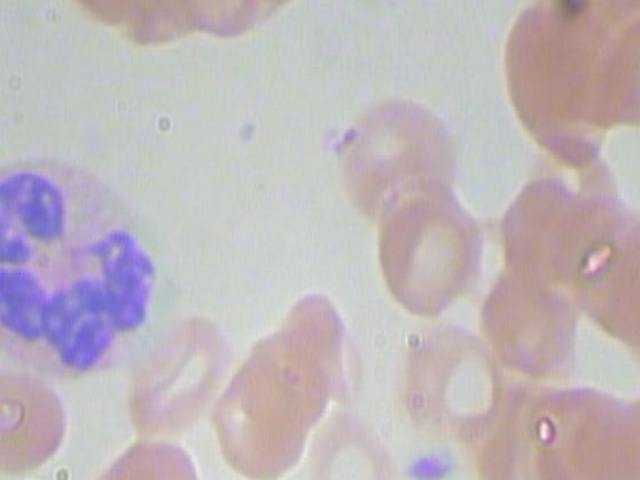Platelets: (402, 443, 457, 480), (327, 0, 381, 3)
RBC: (492, 3, 620, 172), (324, 90, 471, 221), (356, 178, 480, 323), (384, 300, 507, 445), (212, 317, 321, 480), (485, 155, 605, 293), (470, 243, 590, 380), (263, 276, 369, 423), (117, 307, 229, 443), (519, 378, 639, 480), (571, 208, 640, 342), (0, 350, 69, 480), (68, 429, 214, 480), (301, 406, 398, 480), (176, 0, 273, 39)
WBC: (0, 147, 187, 385)
